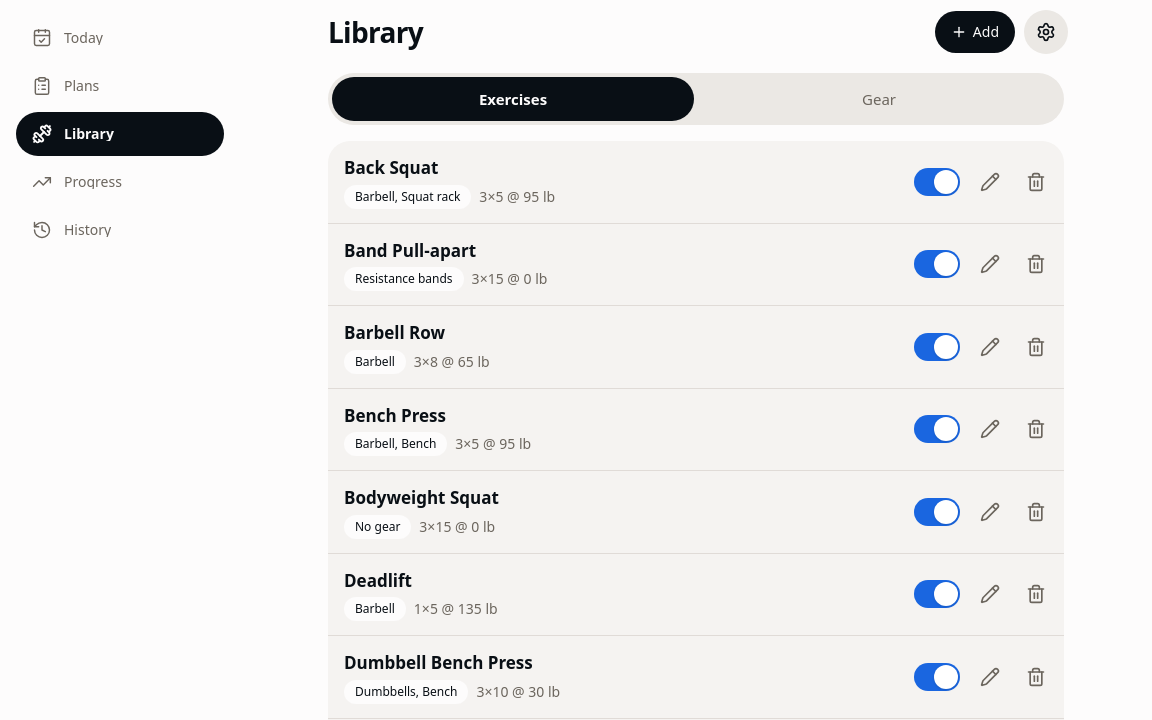
Test: sheet puts name first, sets/reps/weight in one row, and hides optional details until opened by keyboard
This screenshot has width=1152, height=720.
Click the button with aria-label "add exercise": (975, 32) [934,10,1016,54]
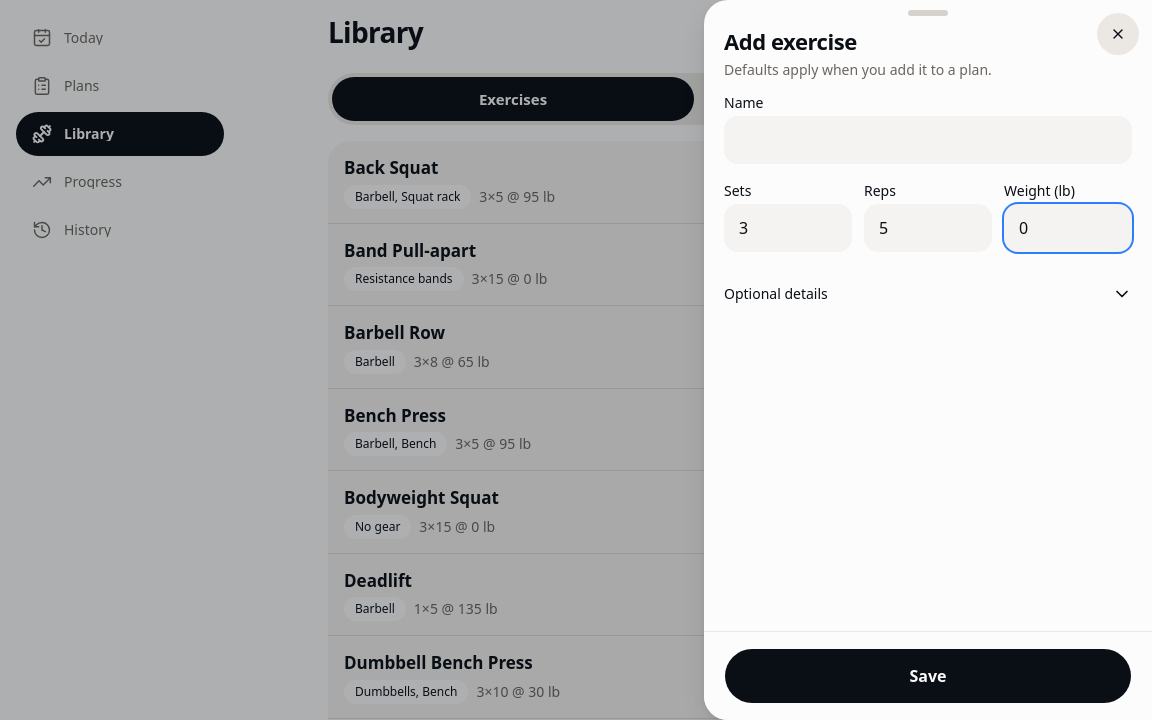
Expected: the field labelled "Notes" is not shown
Expected: the field labelled "Video link" is not shown
Press Tab
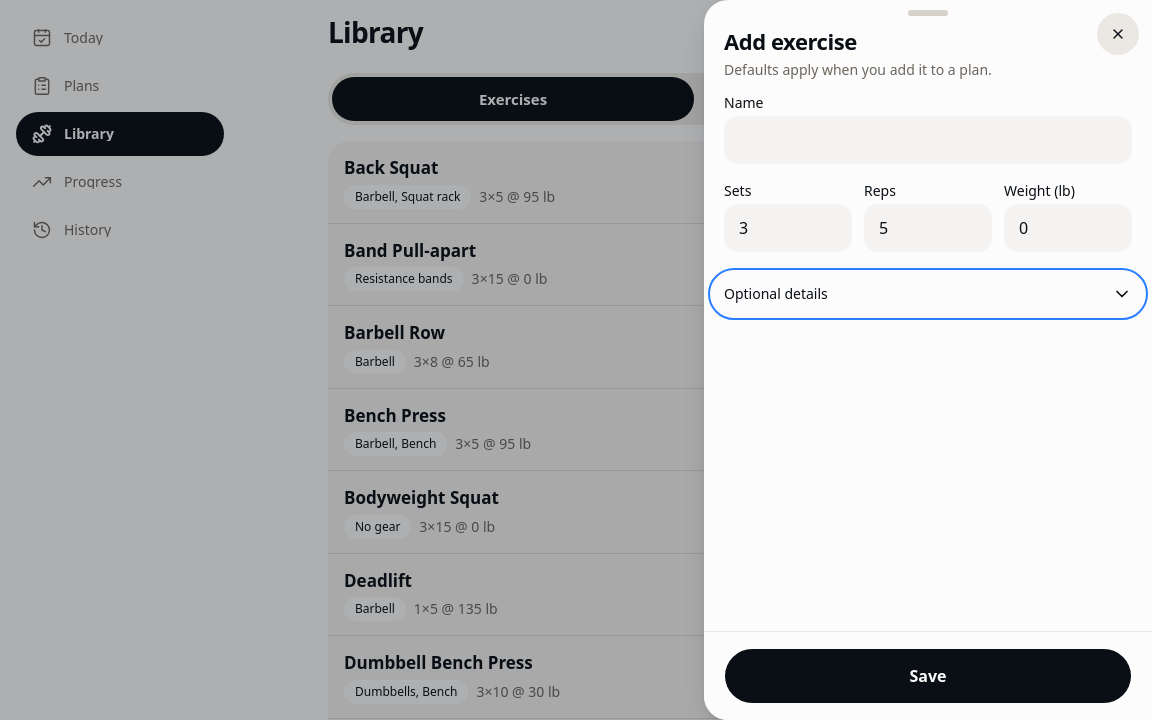
Press Enter
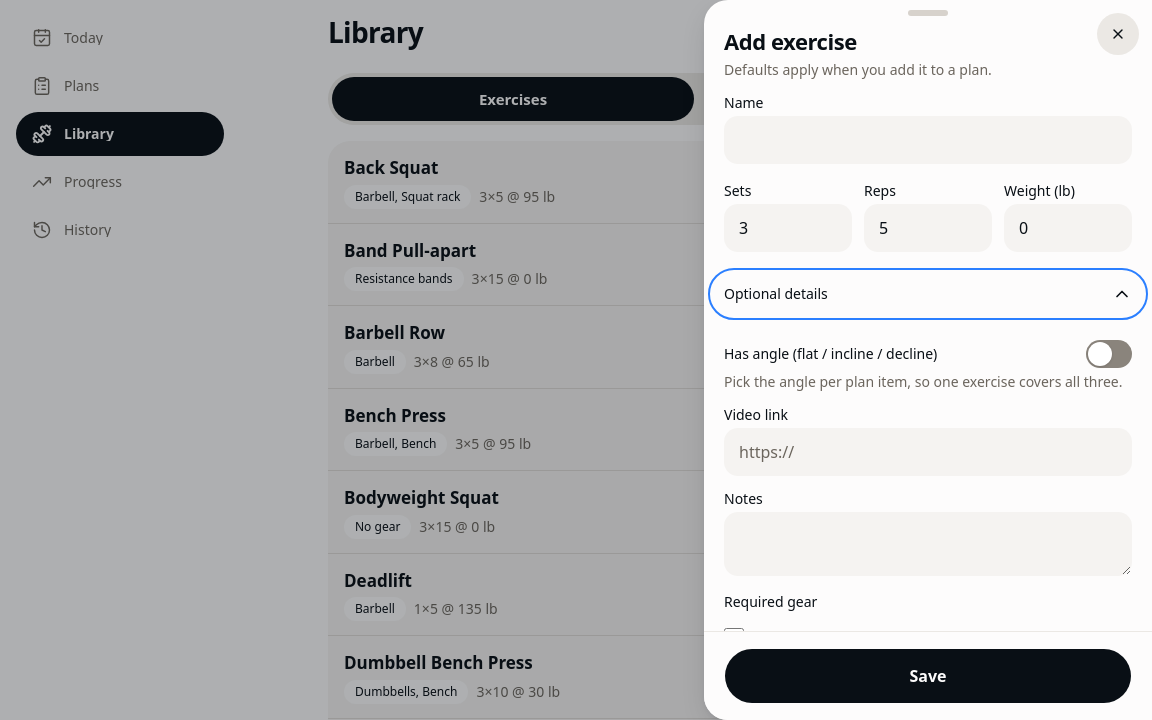
Expected: the button "Optional details" is expanded, [712,272,1144,316]
Expected: the field labelled "Video link" is shown, [724,428,1132,476]
Expected: the text "Required gear" is shown, [724,592,817,612]
